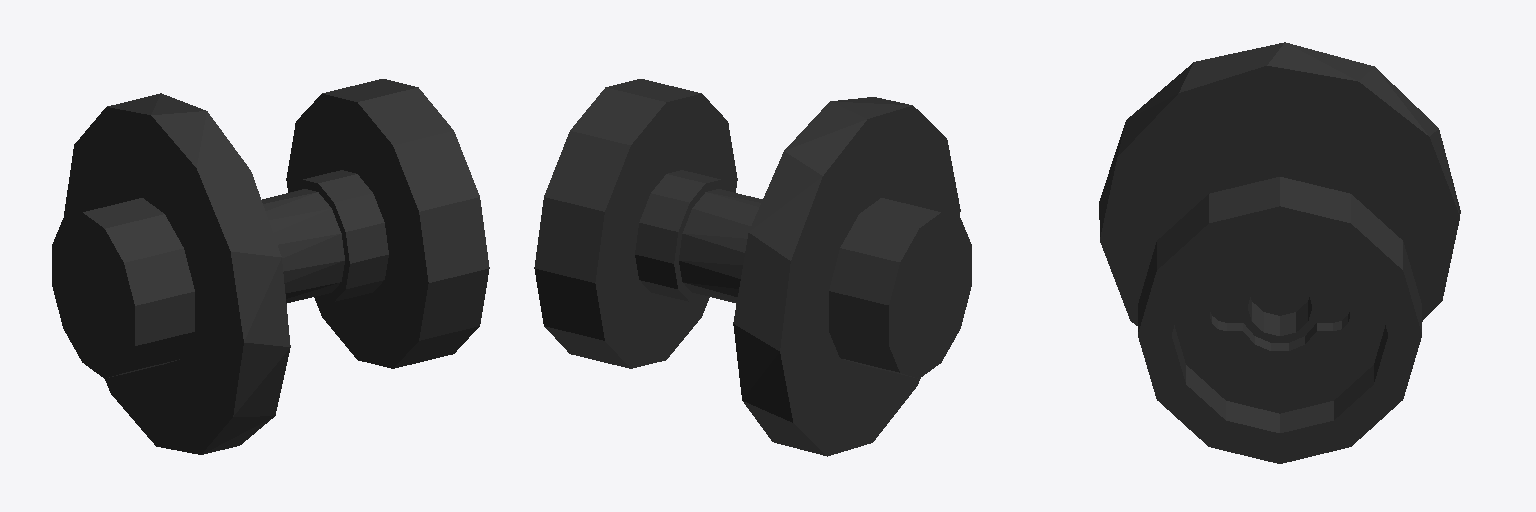
Rendered from Robot_Football_Player_SKS_2501_Head_B0348_Head_Base_06v1_1_mesh_4.obj.
3 renders of one model, left to right at view 1: azimuth 30°, elevation 25°; view 2: azimuth 150°, elevation 25°; view 3: azimuth 270°, elevation 25°, orthographic.
Size of the model in its own units: 0.0208 by 0.02 by 0.02.